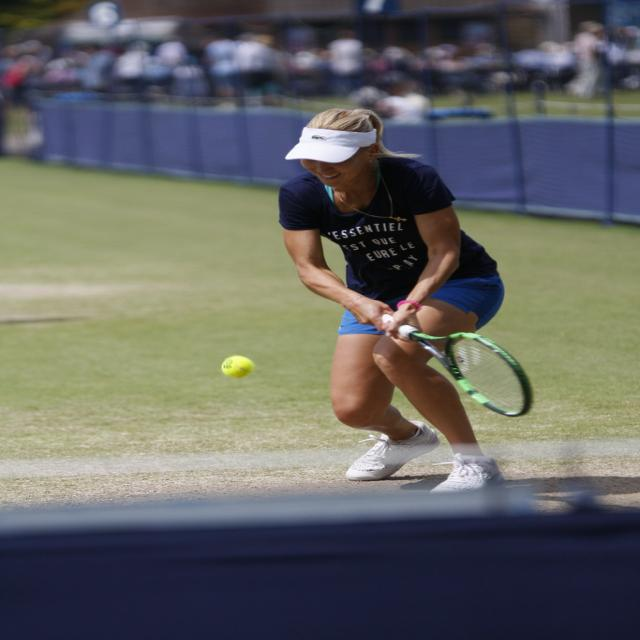Tennis ball: (220, 355, 253, 379)
